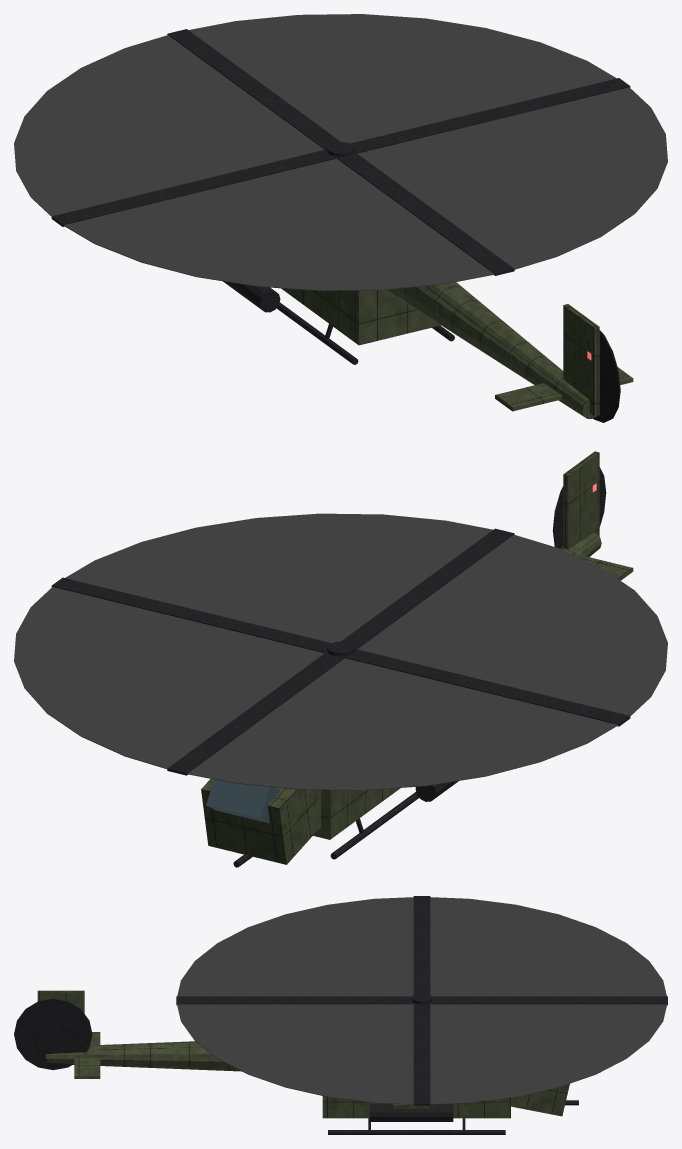
File: helicopter.glb
3 views of the same model, one above another, from view 1: azimuth 30°, elevation 25°; view 2: azimuth 150°, elevation 25°; view 3: azimuth 270°, elevation 25° (orthographic). The views are drawn at different scales.
Parts seen in each view (by area): view 1: rotor, body; view 2: rotor, body; view 3: rotor, body.
Part boxes in pixels (bbox=[...]): rotor: bbox=[14, 14, 667, 290]; body: bbox=[223, 281, 633, 422]; rotor: bbox=[14, 513, 667, 790]; body: bbox=[201, 451, 633, 867]; rotor: bbox=[176, 896, 667, 1105]; body: bbox=[14, 990, 578, 1134].
Bounding box in the file's own units: 9.4 × 2.65 × 12.5.
Materials: 5 (2 with a texture image).
